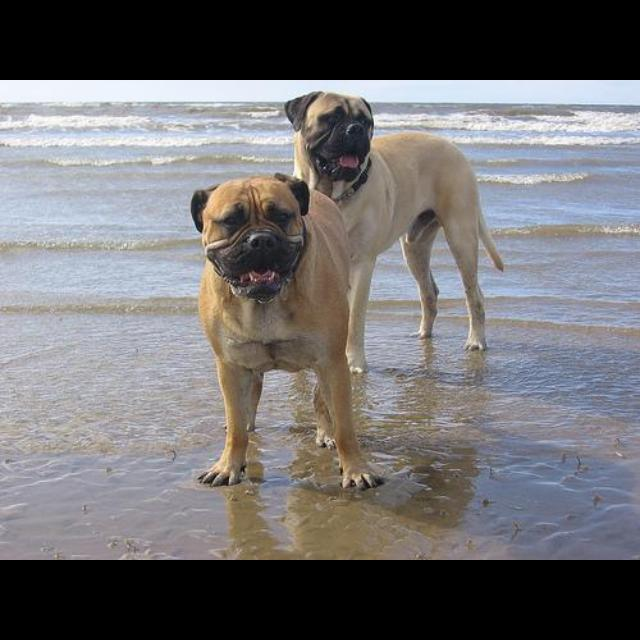bullmastiff: (285, 90, 506, 376), (191, 172, 384, 492)
